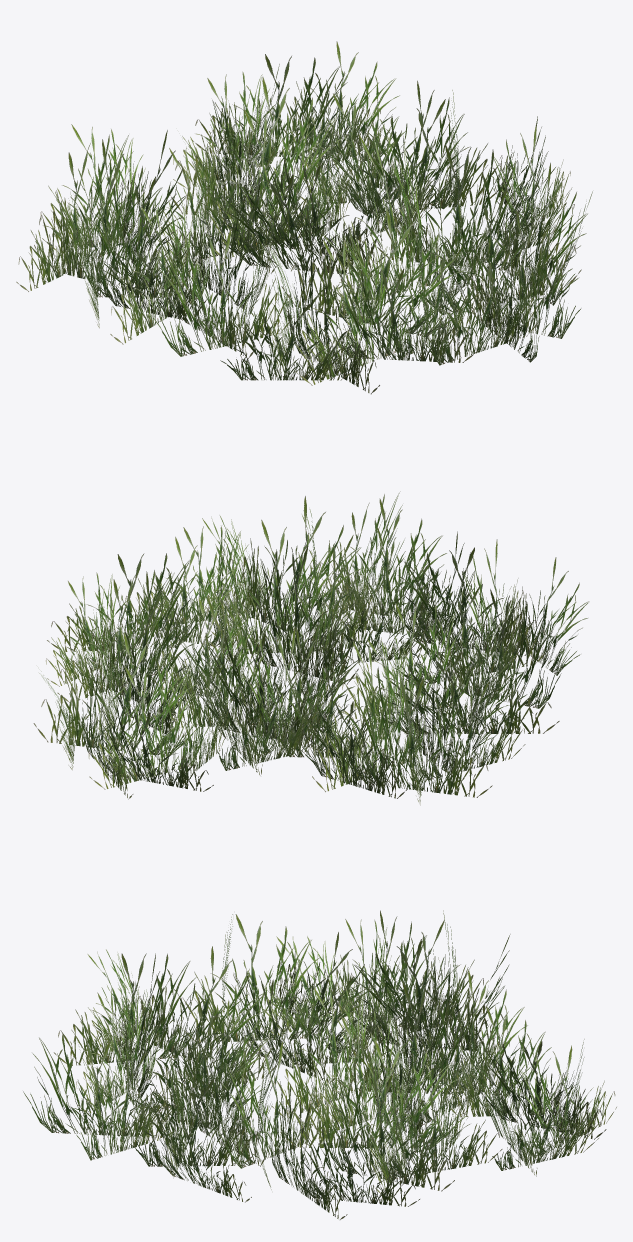
File: ForestGrass3.fbx
3 views of the same model, one above another, from view 1: azimuth 30°, elevation 25°; view 2: azimuth 150°, elevation 25°; view 3: azimuth 270°, elevation 25° (orthographic). The views are drawn at different scales.
Visible parts, largest first — view 1: ForestGrass3; view 2: ForestGrass3; view 3: ForestGrass3.
Boxes of the visible parts, x1,y1,x2,y2 form: ForestGrass3: (16, 41, 592, 394); ForestGrass3: (33, 491, 589, 805); ForestGrass3: (23, 910, 616, 1219).
Bounding box in the file's own units: 356 × 129 × 385.
